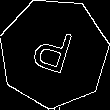P_S: (29, 24, 79, 83)
